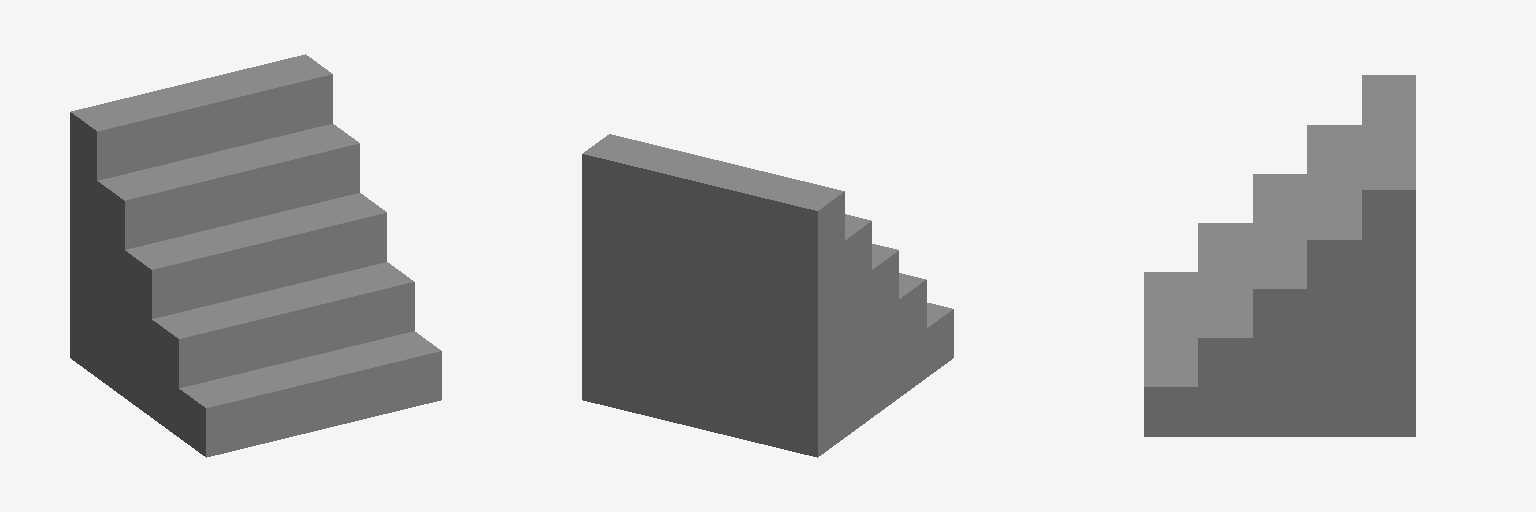
The model's file is struct_large_straight_steps.obj.
3 views of the same model, side by side, from view 1: azimuth 30°, elevation 25°; view 2: azimuth 150°, elevation 25°; view 3: azimuth 270°, elevation 25° (orthographic).
Visible parts, largest first — view 1: object1; view 2: object1; view 3: object1.
Part boxes in pixels (bbox=[...]): object1: bbox=[70, 54, 441, 457]; object1: bbox=[582, 134, 953, 457]; object1: bbox=[1144, 75, 1415, 436].
Size of the model in its own units: 1 by 1 by 1.